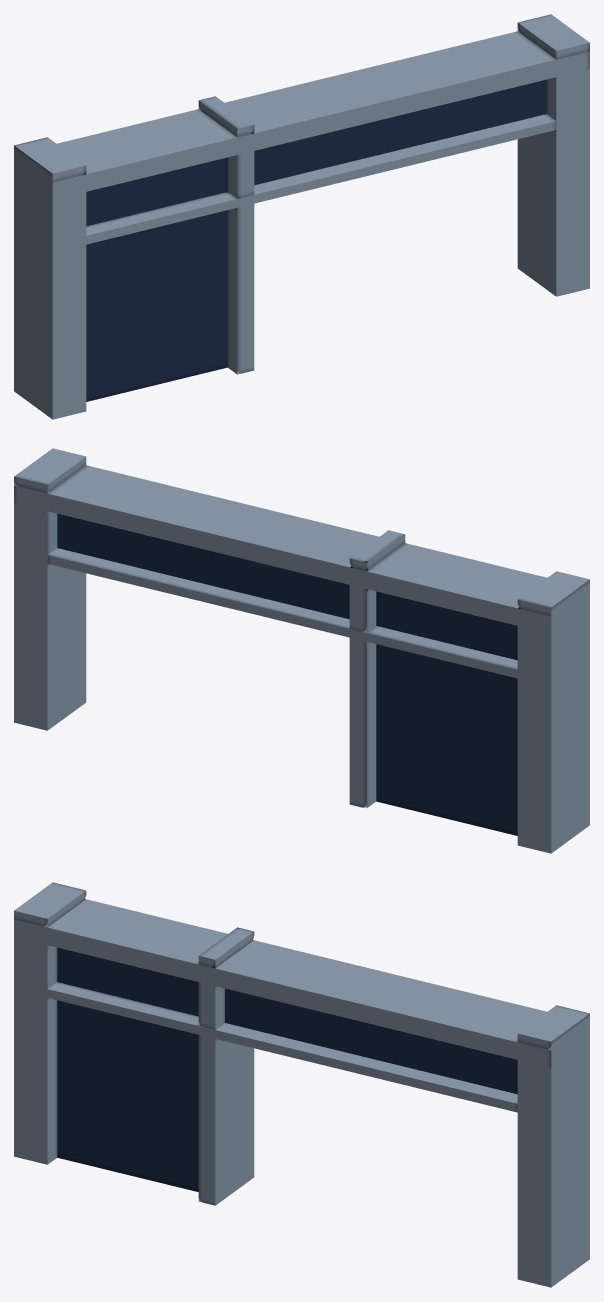
Rendered from okienko_poczta.dae.
The picture shows the model from 3 angles, top to bottom: view 1: azimuth 30°, elevation 25°; view 2: azimuth 150°, elevation 25°; view 3: azimuth 330°, elevation 25°; orthographic projection.
Visible parts, largest first — view 1: Content; view 2: Content; view 3: Content.
Boxes of the visible parts, bbox=[...] form: Content: bbox=[14, 14, 589, 419]; Content: bbox=[14, 448, 589, 853]; Content: bbox=[14, 882, 589, 1287].
Size of the model in its own units: 64 by 28 by 8.
Materials: 1 (1 with a texture image).
